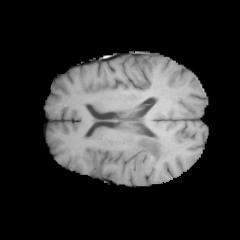glioma: (112, 136, 170, 184)
